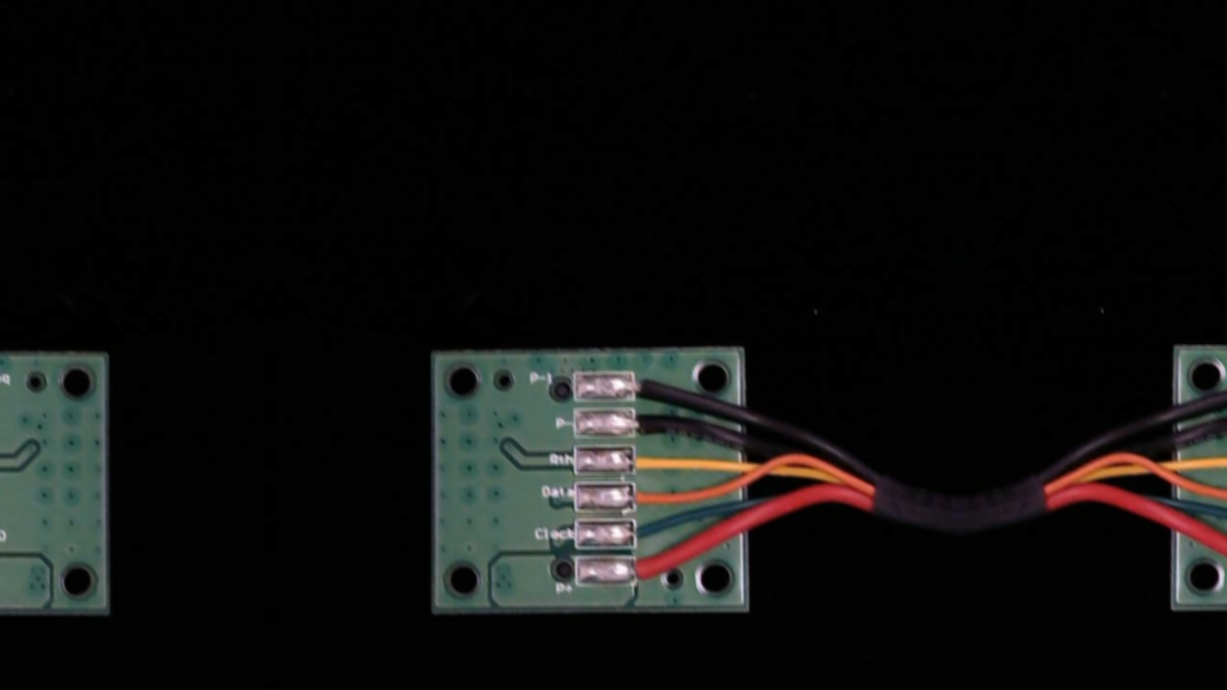Black: (622, 407, 687, 439)
Black1: (620, 370, 681, 400)
Green: (618, 517, 675, 548)
Orange: (620, 482, 686, 512)
Red: (619, 554, 676, 586)
Yellow: (621, 443, 685, 478)
